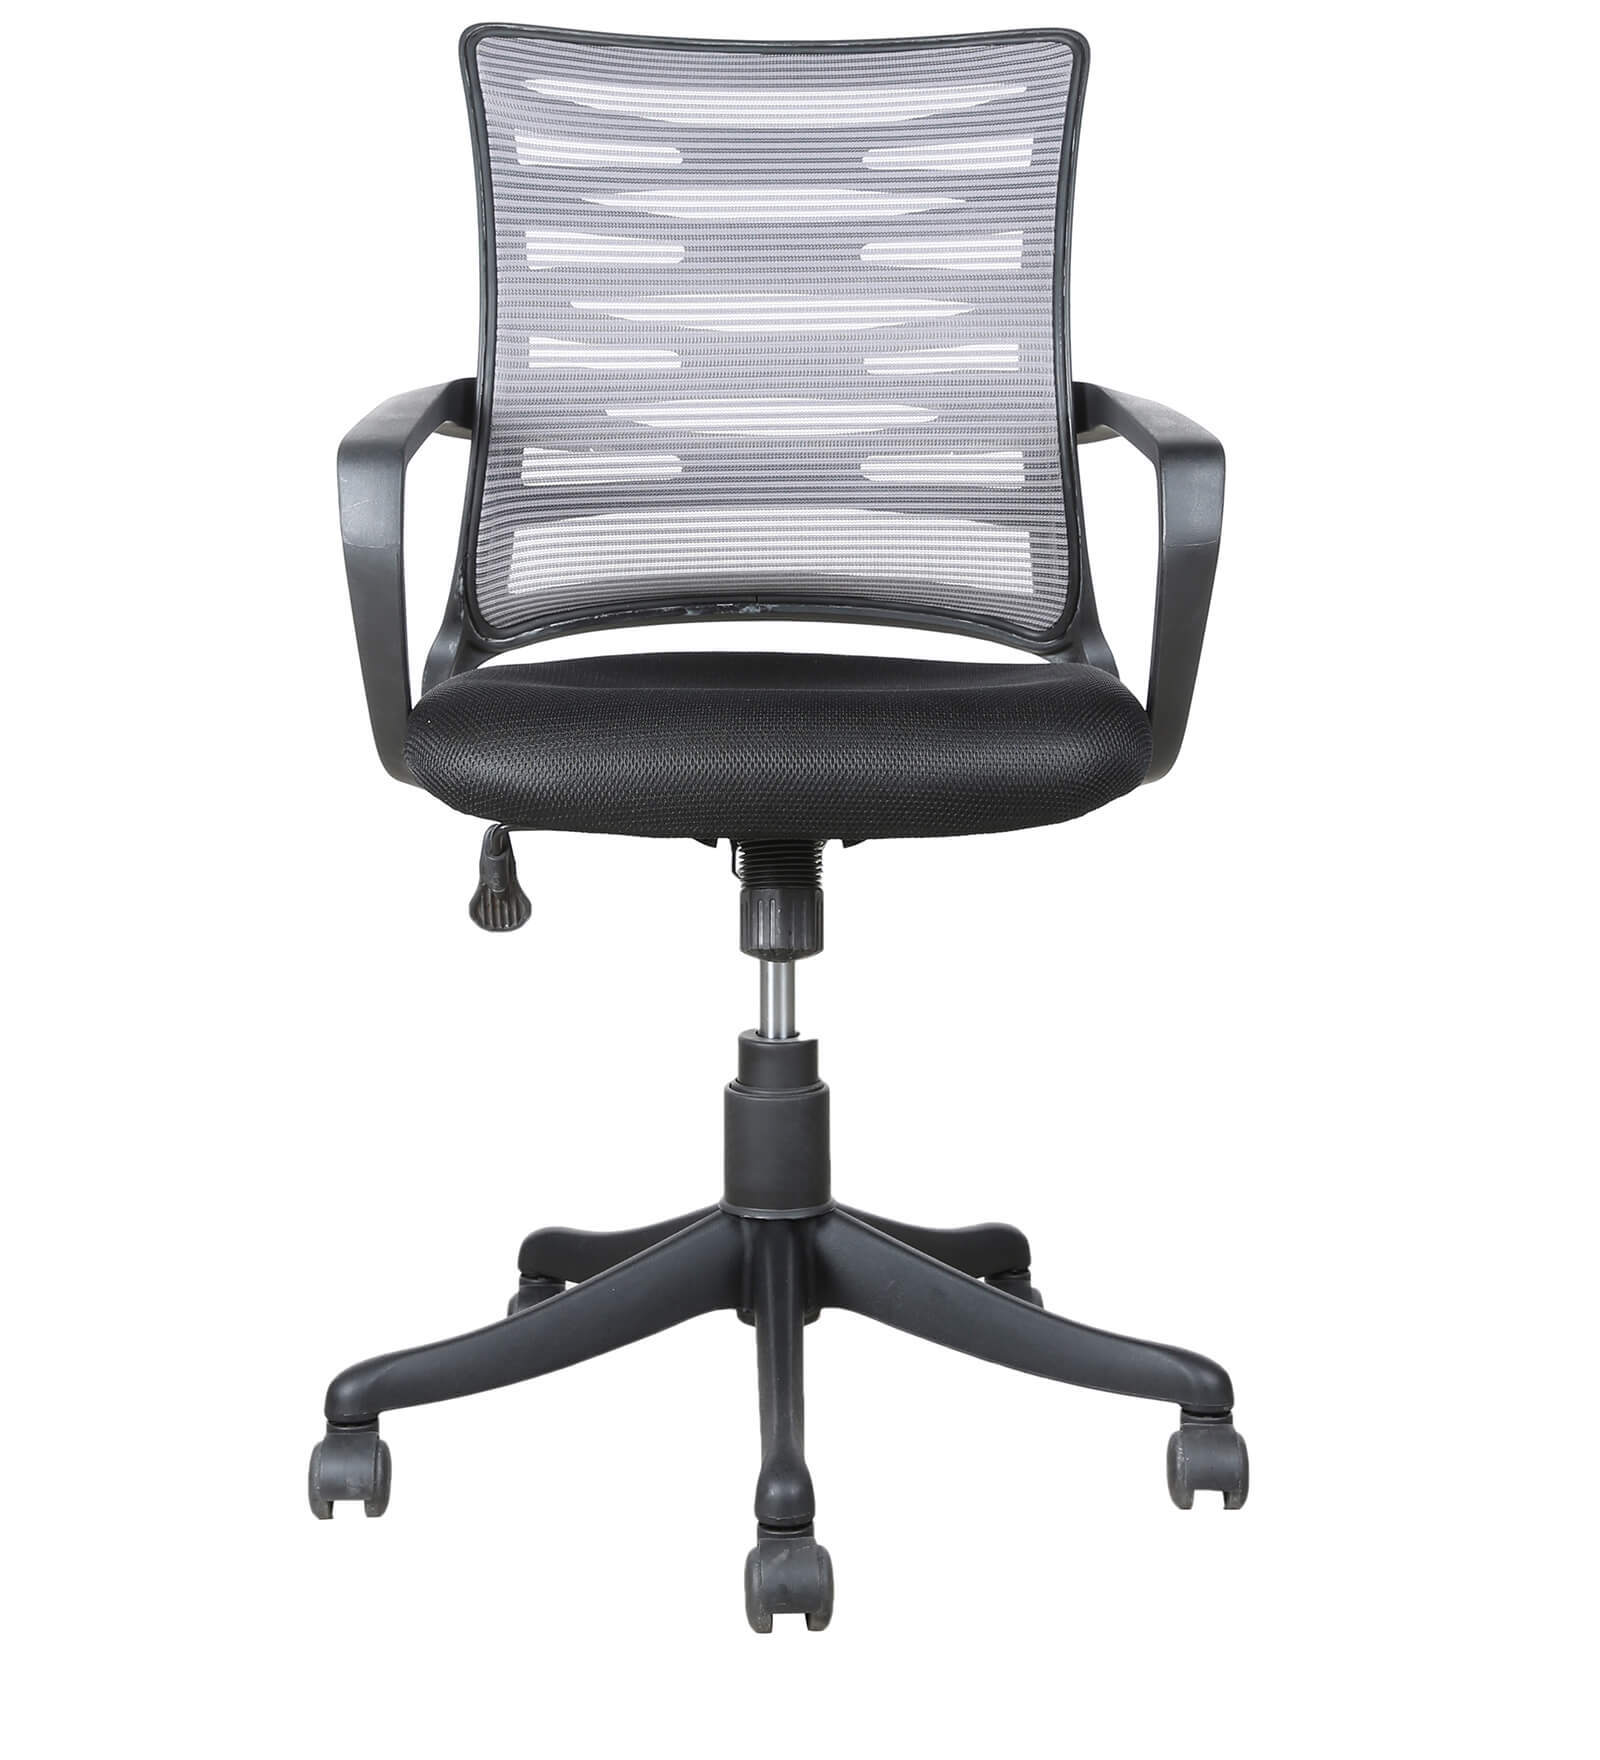Astec Ergonomic Chair in Grey Colour by Parin: (319, 20, 1287, 1653)
